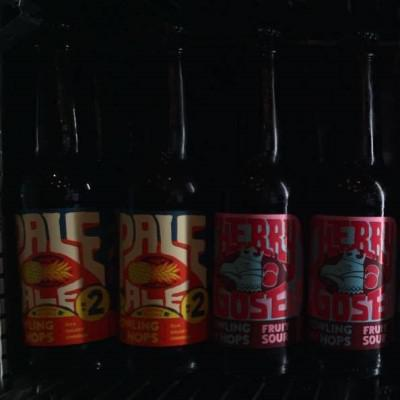beer: (8, 18, 391, 384)
